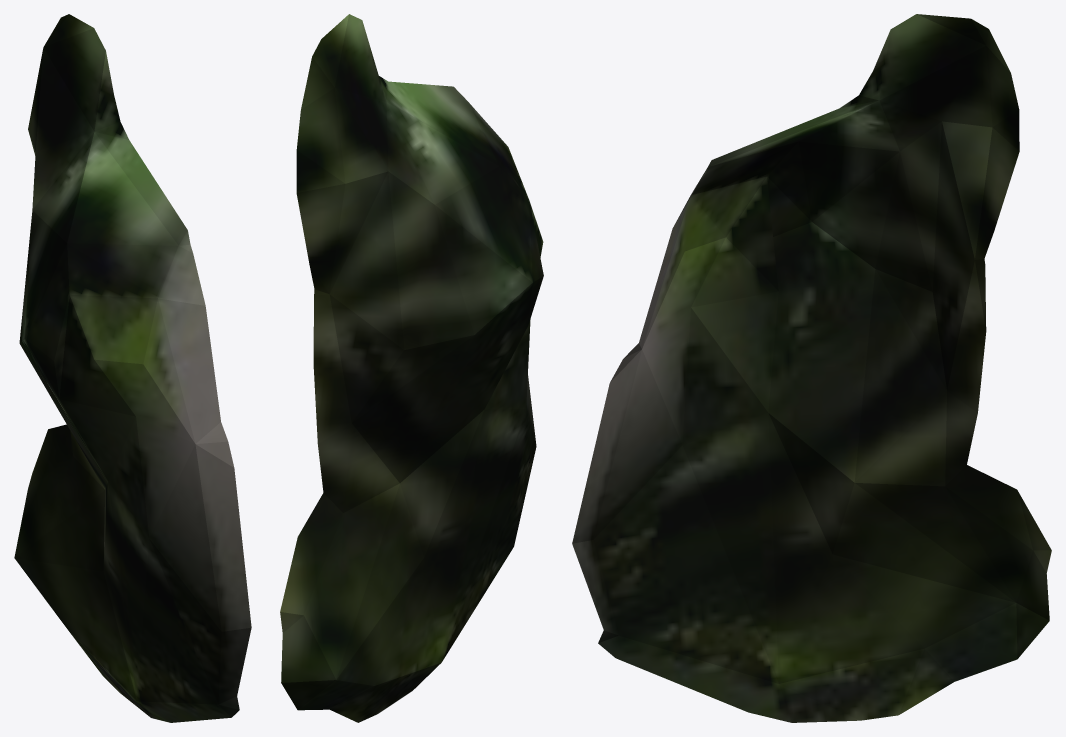
The picture shows the model from 3 angles, left to right: view 1: azimuth 30°, elevation 25°; view 2: azimuth 150°, elevation 25°; view 3: azimuth 270°, elevation 25°; orthographic projection. The views are drawn at different scales.
Bounding box in the file's own units: 0.0728 × 0.3861 × 0.2368.
1 material, 1 textured.
